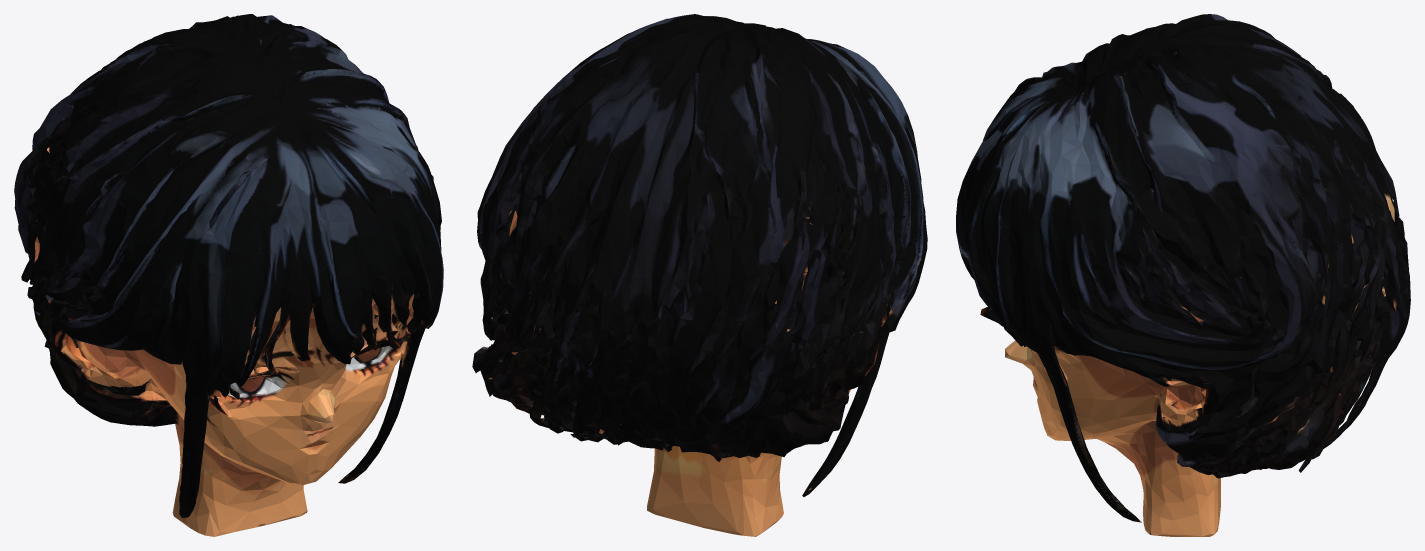
The model's file is side_kiyo_repaired_atlas.glb.
The picture shows the model from 3 angles, left to right: view 1: azimuth 30°, elevation 25°; view 2: azimuth 150°, elevation 25°; view 3: azimuth 270°, elevation 25°; orthographic projection. The views are drawn at different scales.
Parts seen in each view (by area): view 1: temp_mesh.ply; view 2: temp_mesh.ply; view 3: temp_mesh.ply.
Boxes of the visible parts, x1,y1,x2,y2 form: temp_mesh.ply: (14, 14, 443, 536); temp_mesh.ply: (472, 14, 927, 536); temp_mesh.ply: (956, 14, 1410, 536).
Bounding box in the file's own units: 1.03 × 1.34 × 1.17.
Materials: 1 (1 with a texture image).
